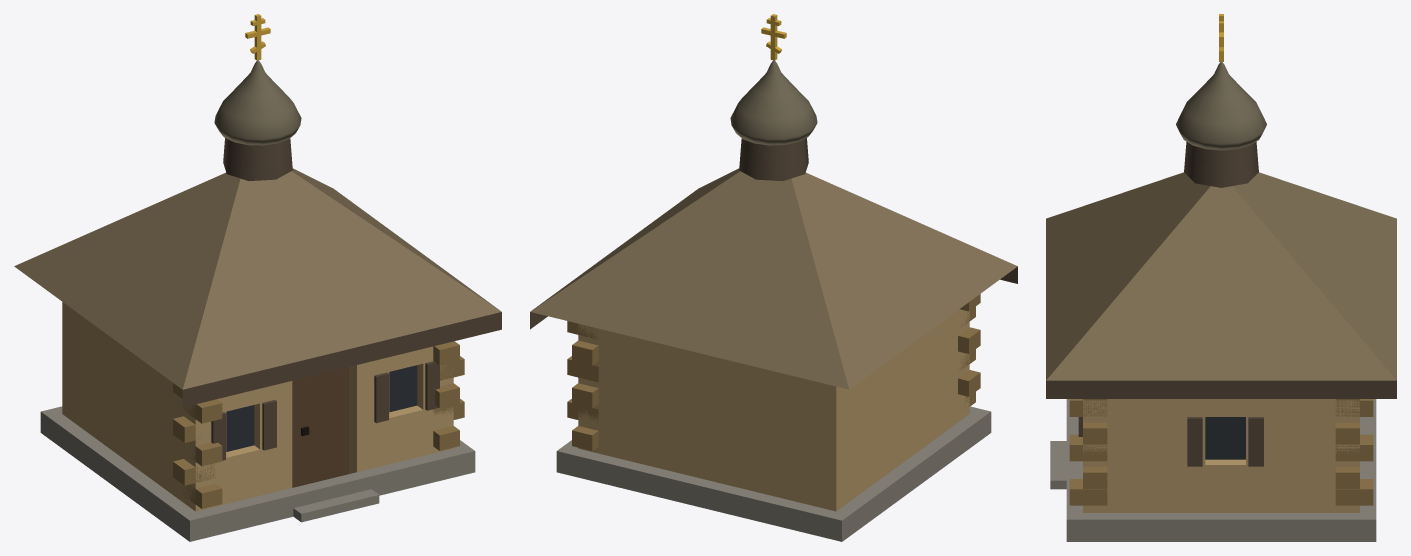
The model's file is kaplytsia.glb.
3 renders of one model, left to right at view 1: azimuth 30°, elevation 25°; view 2: azimuth 150°, elevation 25°; view 3: azimuth 270°, elevation 25°, orthographic. The views are drawn at different scales.
Visible parts, largest first — view 1: roof_south, roof_west, wall_west, wall_south (×4), pryzba_s, door, eave_s, pryzba_w, dome, wall_south_sill (×2), drum, pane (×2) (+5 smaller); view 2: roof_north, wall_north, roof_west, wall_west, pryzba_n, pryzba_w, dome, drum, roof_east; view 3: roof_east, wall_east (×2), roof_south, roof_north, pryzba_e, eave_e, dome, log_end (×6), drum, wall_east_sill, pane, shutter (×2) (+5 smaller).
Boxes of the visible parts, <box> form: roof_south: <box>183,171,501,389</box>; roof_west: <box>14,172,240,389</box>; wall_west: <box>62,302,215,511</box>; wall_south (×4): <box>183,346,453,511</box>; pryzba_s: <box>182,445,475,541</box>; door: <box>292,367,348,487</box>; eave_s: <box>182,312,501,407</box>; pryzba_w: <box>48,414,194,535</box>; dome: <box>214,60,301,145</box>; wall_south_sill (×2): <box>226,405,423,503</box>; drum: <box>223,138,292,180</box>; pane (×2): <box>226,365,417,451</box>; roof_north: <box>530,171,848,389</box>; wall_north: <box>578,324,848,511</box>; roof_west: <box>791,172,1017,389</box>; wall_west: <box>823,309,969,510</box>; pryzba_n: <box>556,445,849,541</box>; pryzba_w: <box>837,414,983,535</box>; dome: <box>730,60,817,145</box>; drum: <box>739,138,808,180</box>; roof_east: <box>533,168,739,309</box>; roof_east: <box>1046,186,1396,380</box>; wall_east (×2): <box>1083,399,1359,512</box>; roof_south: <box>1046,172,1210,380</box>; roof_north: <box>1232,172,1396,380</box>; pryzba_e: <box>1083,513,1359,541</box>; eave_e: <box>1046,380,1396,398</box>; dome: <box>1176,62,1266,150</box>; log_end (×6): <box>1083,422,1359,505</box>; drum: <box>1184,141,1258,187</box>; wall_east_sill: <box>1205,459,1245,512</box>; pane: <box>1205,417,1245,459</box>; shutter (×2): <box>1187,417,1263,466</box>.
Size of the model in its own units: 4.7 by 6.15 by 4.3.
